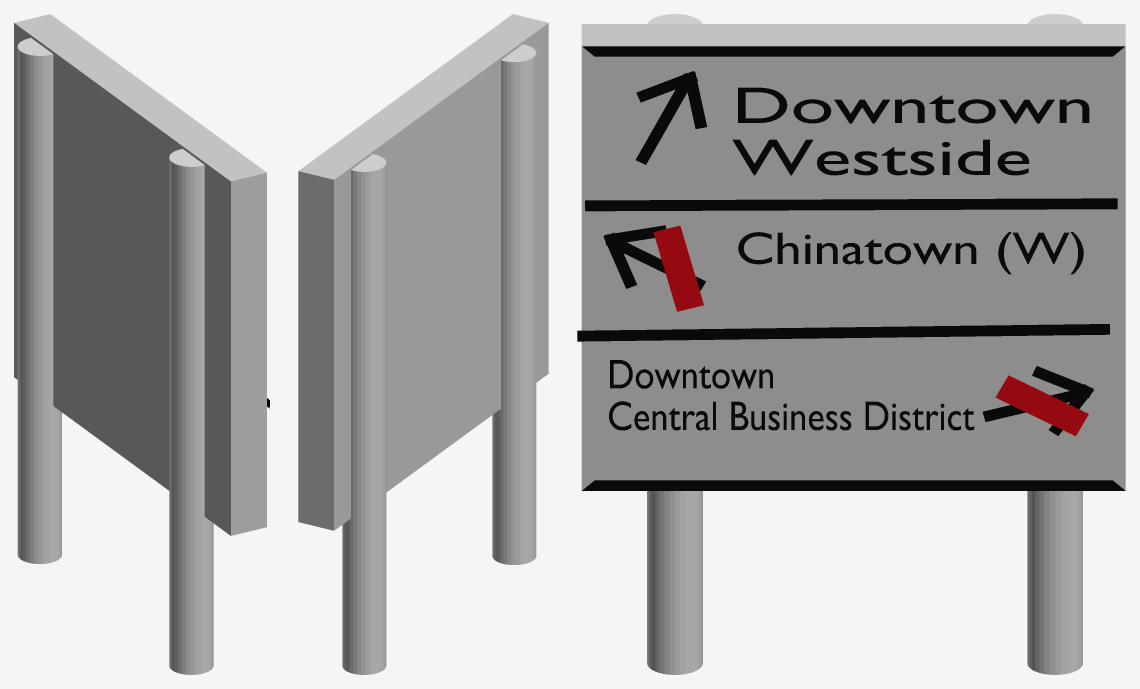
The model's file is UK_junction_sign_24.fbx.
3 views of the same model, side by side, from view 1: azimuth 30°, elevation 25°; view 2: azimuth 150°, elevation 25°; view 3: azimuth 270°, elevation 25° (orthographic). The views are drawn at different scales.
Visible parts, largest first — view 1: Cube.001, Cylinder.001, Cylinder; view 2: Cube.001, Cylinder, Cylinder.001; view 3: Cube.001, Cylinder.001, Cylinder, Text, Plane.001, Plane.012, Text.003, Text.001, Plane.009, Plane.007, Plane.003.
Part boxes in pixels (bbox=[...]): Cube.001: bbox=[14, 14, 266, 535]; Cylinder.001: bbox=[17, 38, 61, 563]; Cylinder: bbox=[169, 149, 213, 674]; Cube.001: bbox=[298, 14, 548, 530]; Cylinder: bbox=[492, 44, 536, 565]; Cylinder.001: bbox=[342, 154, 386, 674]; Cube.001: bbox=[581, 24, 1125, 490]; Cylinder.001: bbox=[1027, 14, 1082, 674]; Cylinder: bbox=[647, 14, 702, 674]; Text: bbox=[732, 87, 1089, 175]; Plane.001: bbox=[585, 198, 1117, 211]; Plane.012: bbox=[577, 324, 1109, 341]; Text.003: bbox=[609, 360, 974, 430]; Text.001: bbox=[738, 232, 1083, 274]; Plane.009: bbox=[995, 375, 1088, 436]; Plane.007: bbox=[653, 225, 703, 311]; Plane.003: bbox=[635, 84, 689, 164].
Size of the model in its own units: 6.29 by 50.59 by 39.25.
